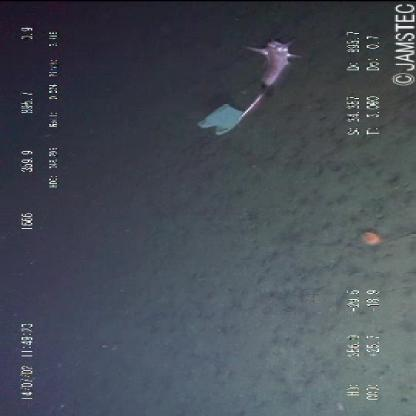Rác: (191, 99, 247, 142)
